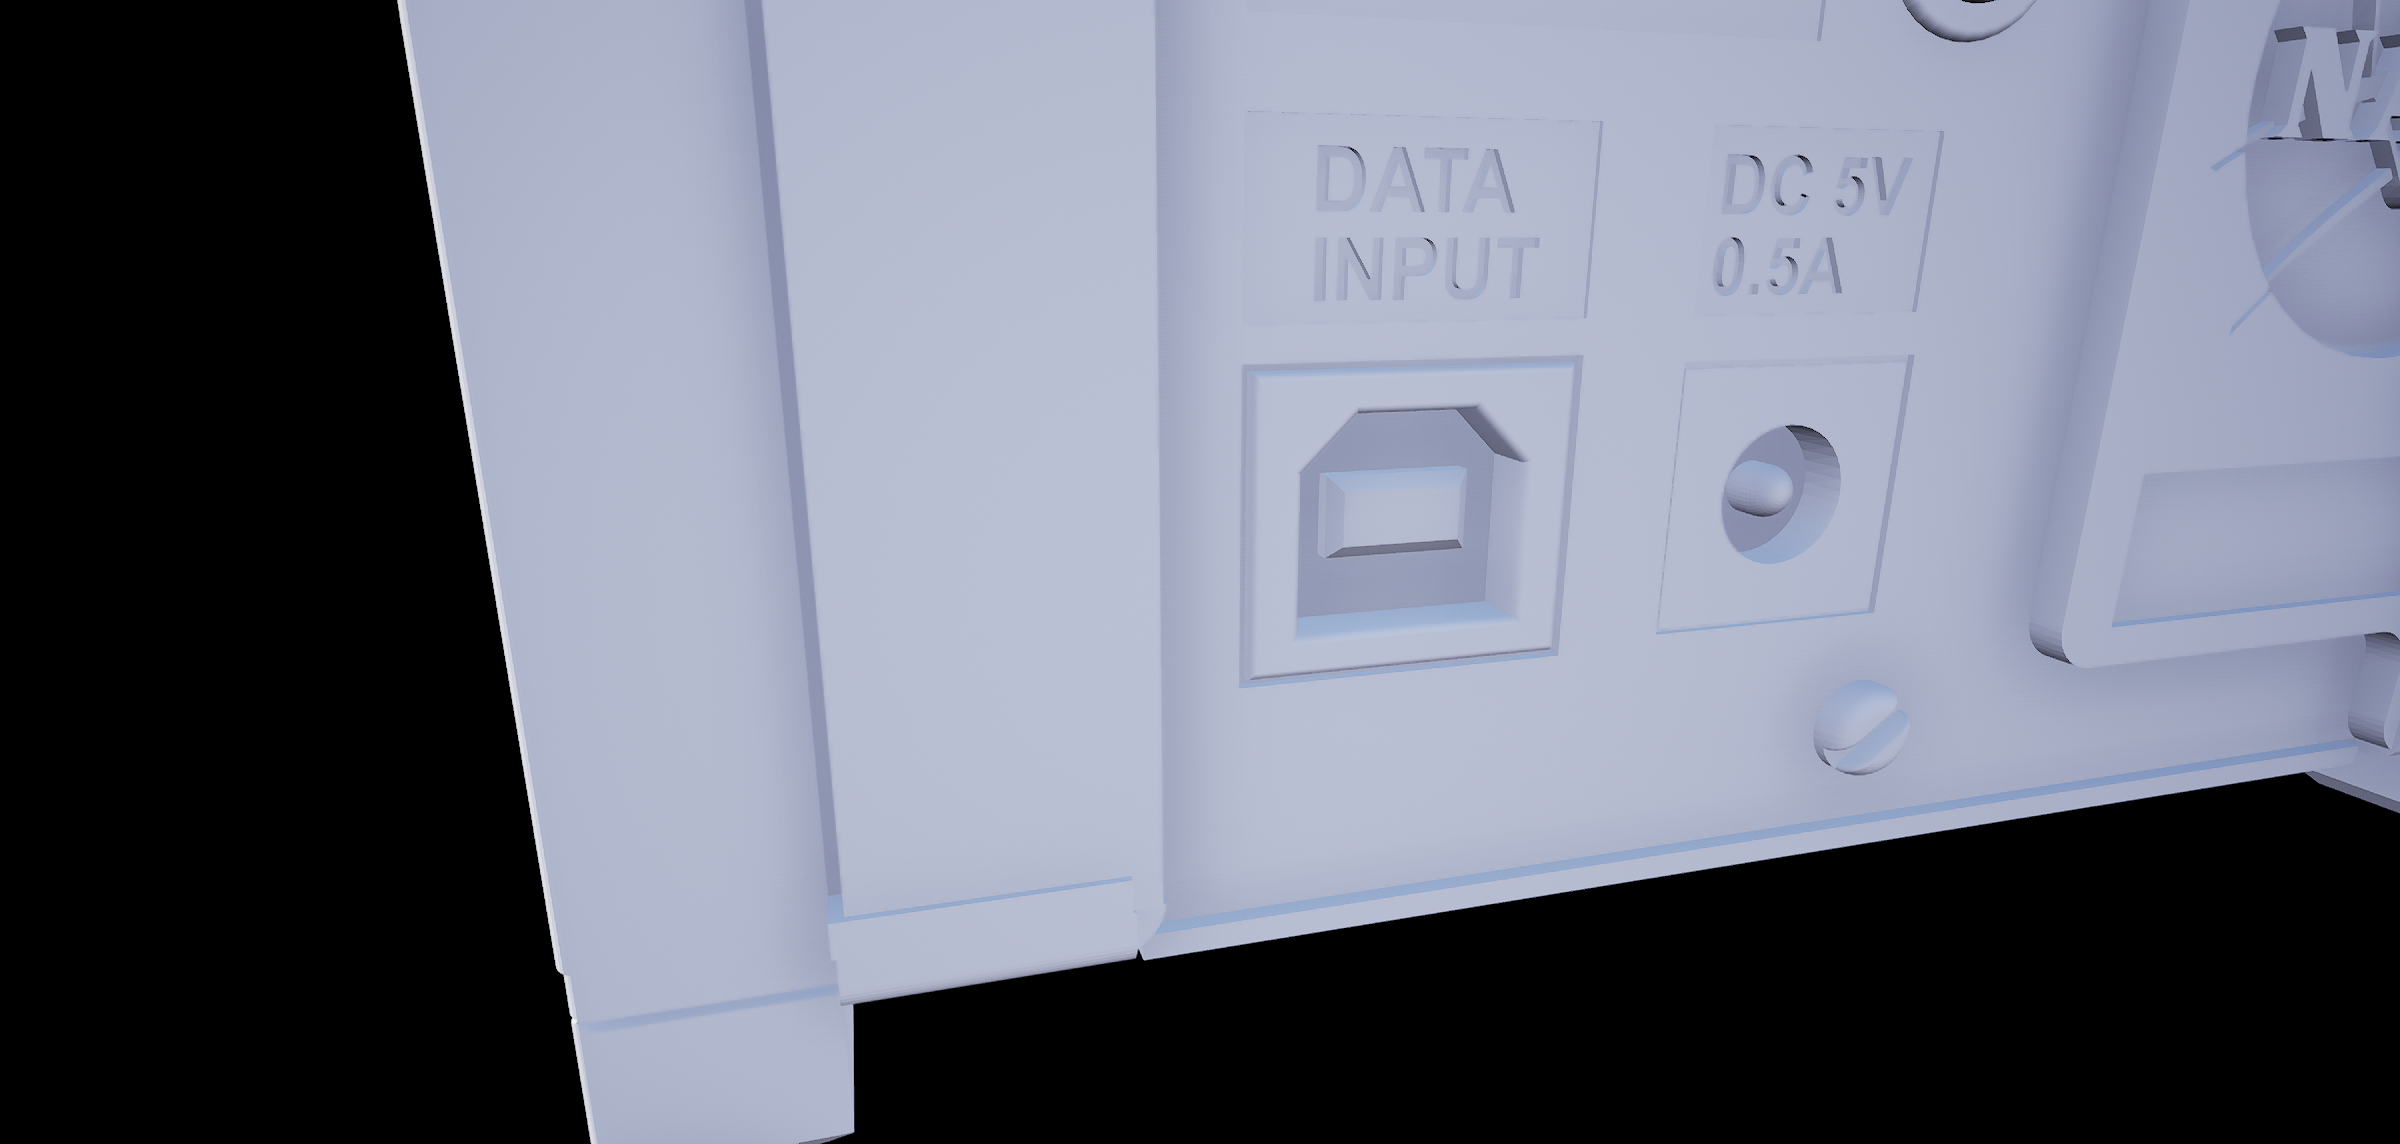dc: (1705, 417, 1852, 573)
usb: (1284, 394, 1554, 642)
